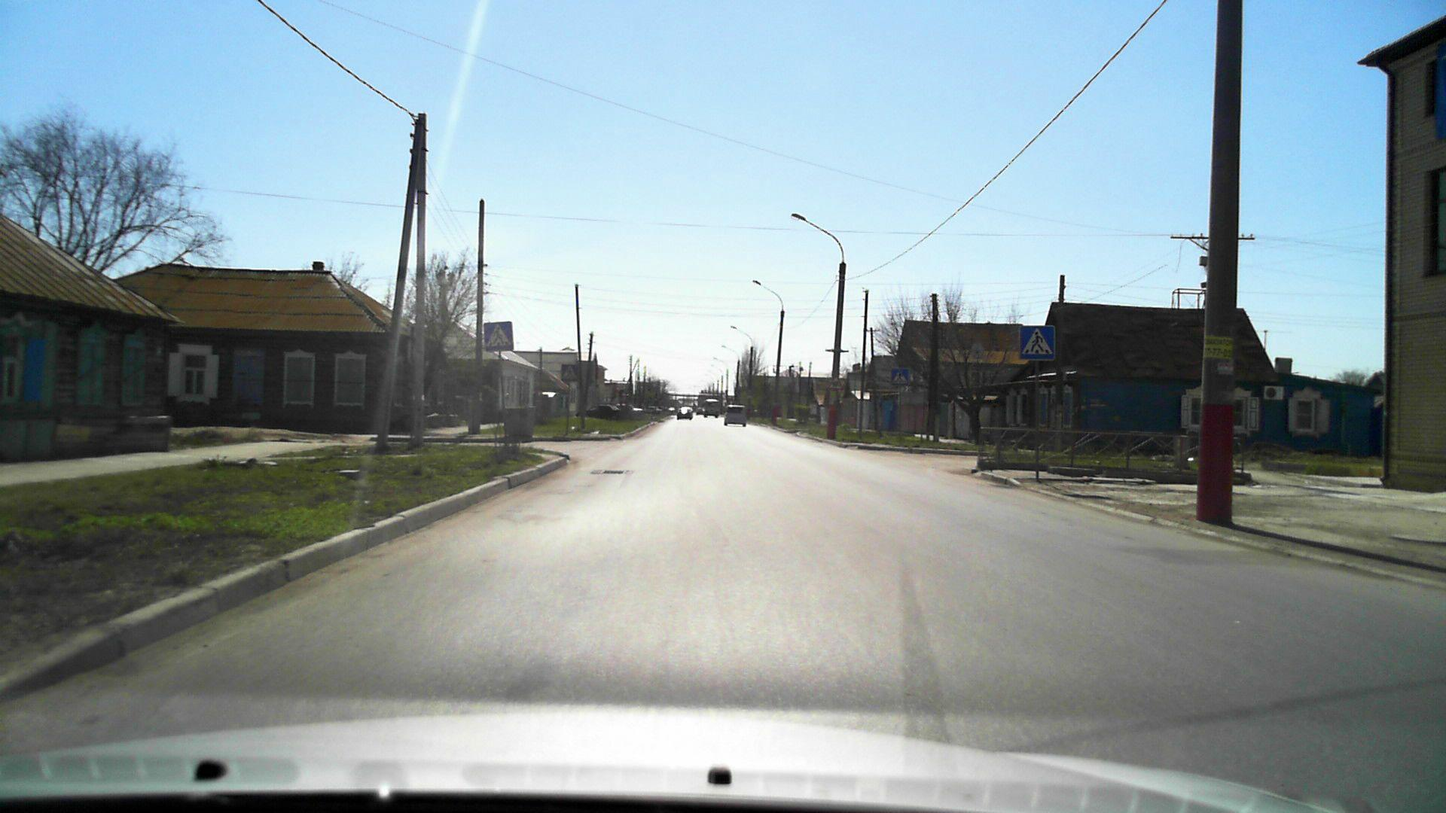road_sign: (1017, 325, 1056, 361), (483, 321, 513, 353)
